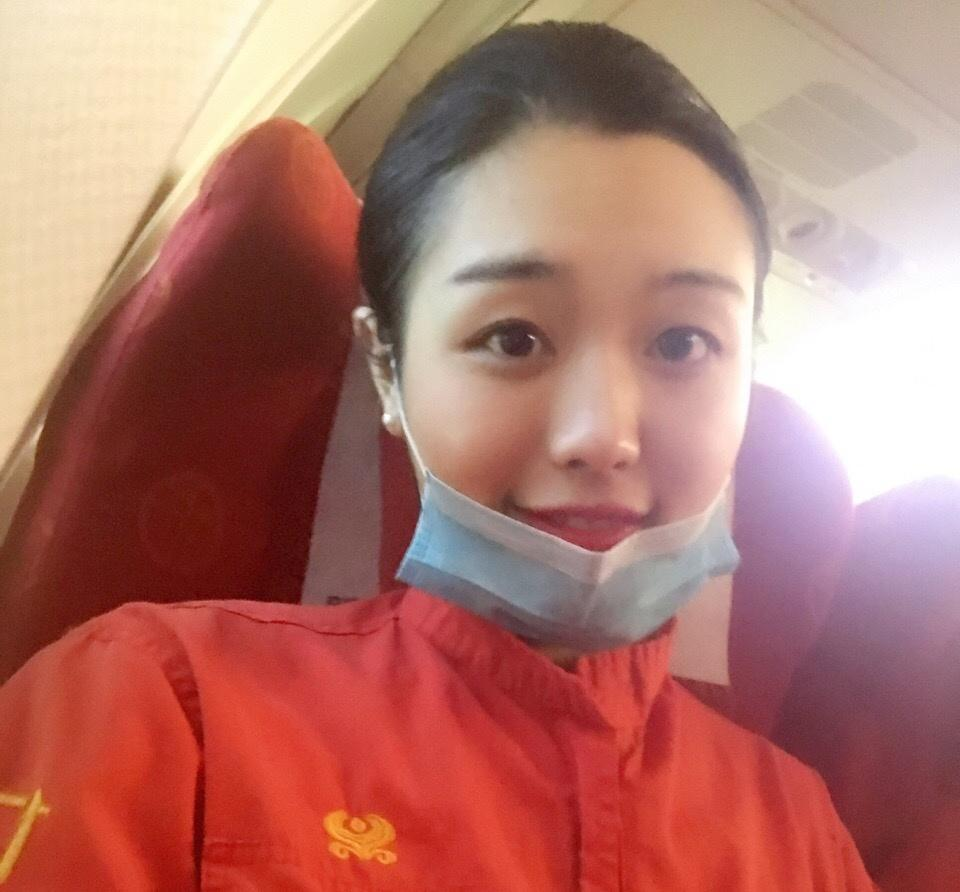WRONG: (386, 240, 778, 632)
